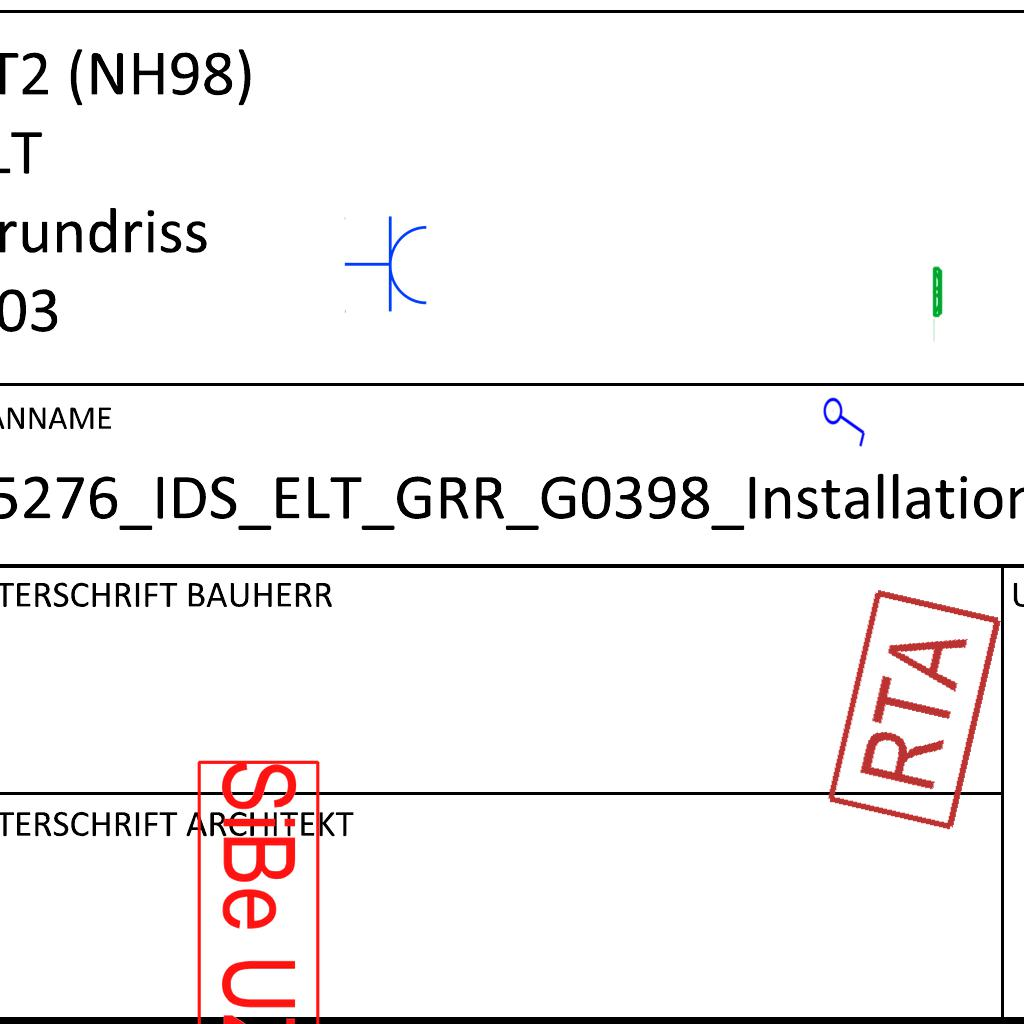Ausschalter: (822, 392, 870, 448)
Ruf-und_Abstelltaster: (821, 585, 1007, 839)
Schukosteckdose_einfach: (344, 215, 431, 315)
Sicherheitsleuchte_Wandeinbau: (932, 265, 944, 344)
Zentrale_Sicherheitsbeleuchtung: (193, 757, 323, 1024)
